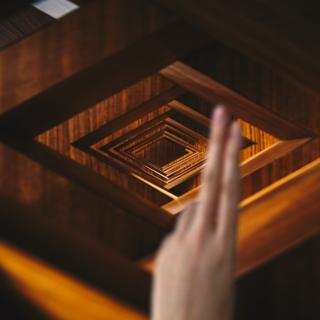DHAVE: (140, 100, 251, 320)
